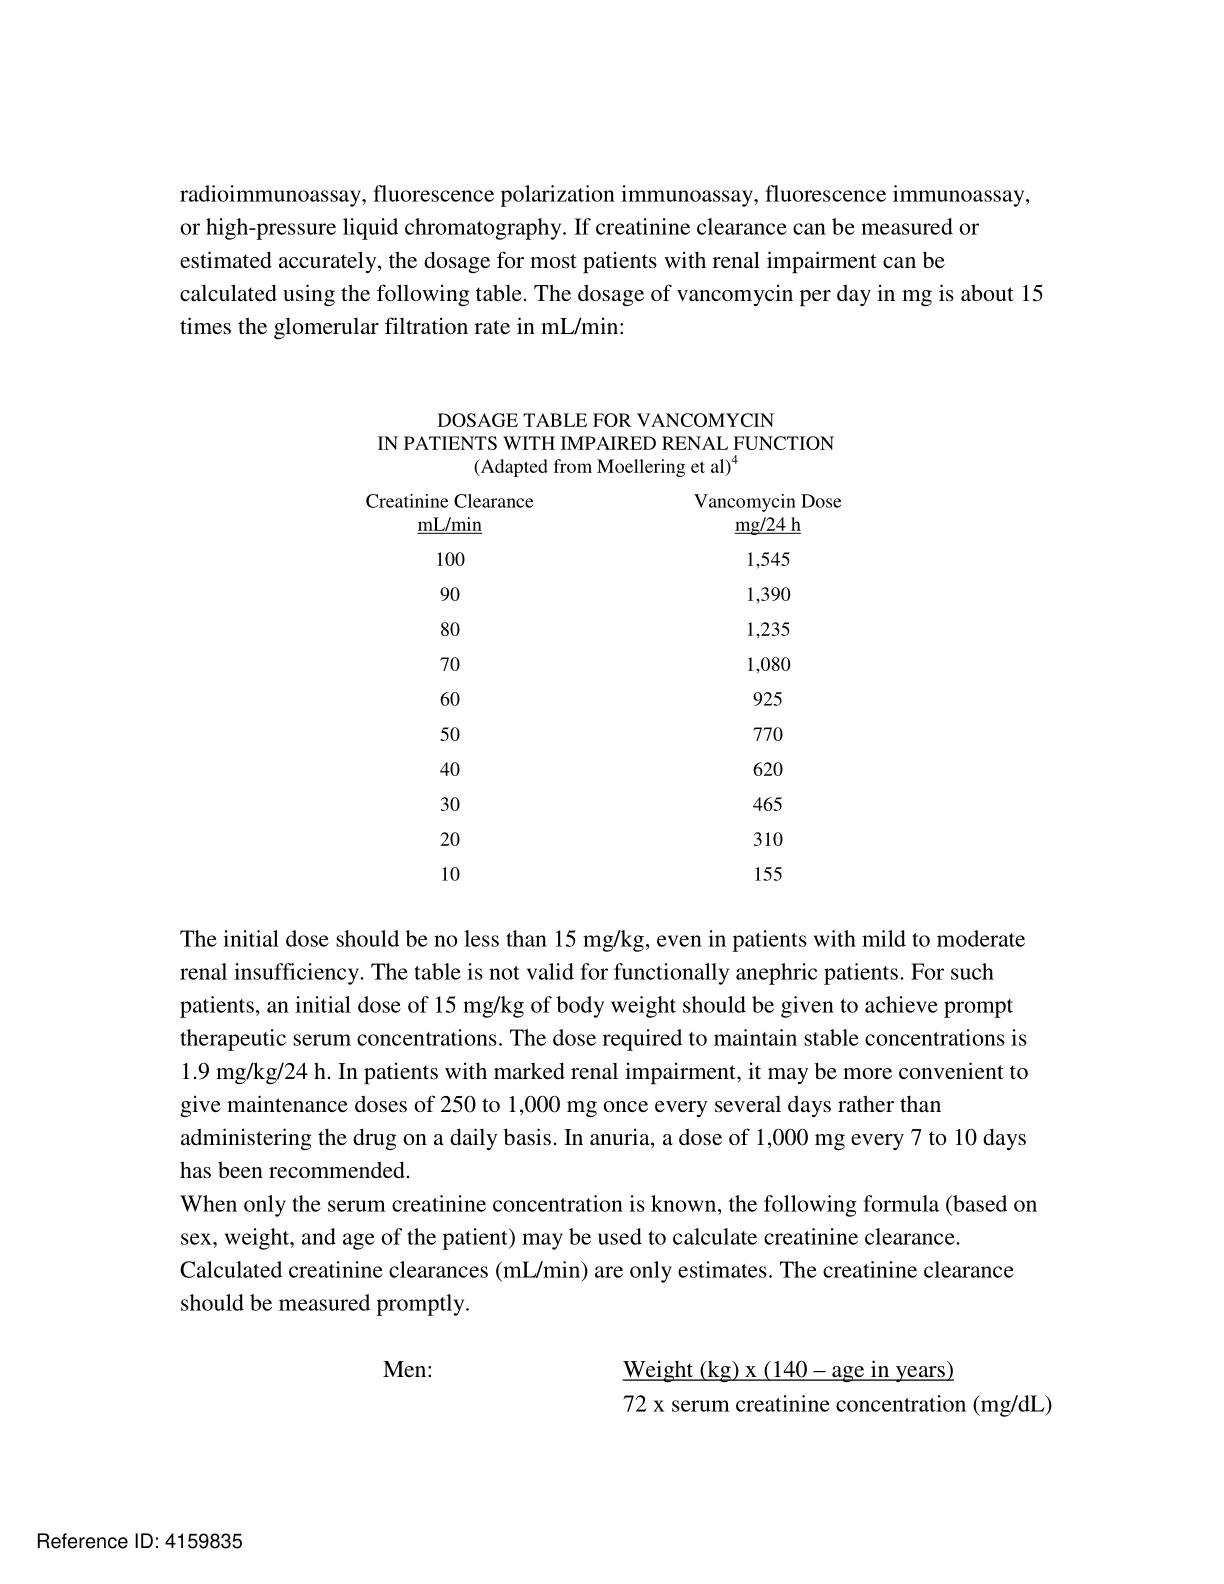nolines: (359, 490, 846, 886)
